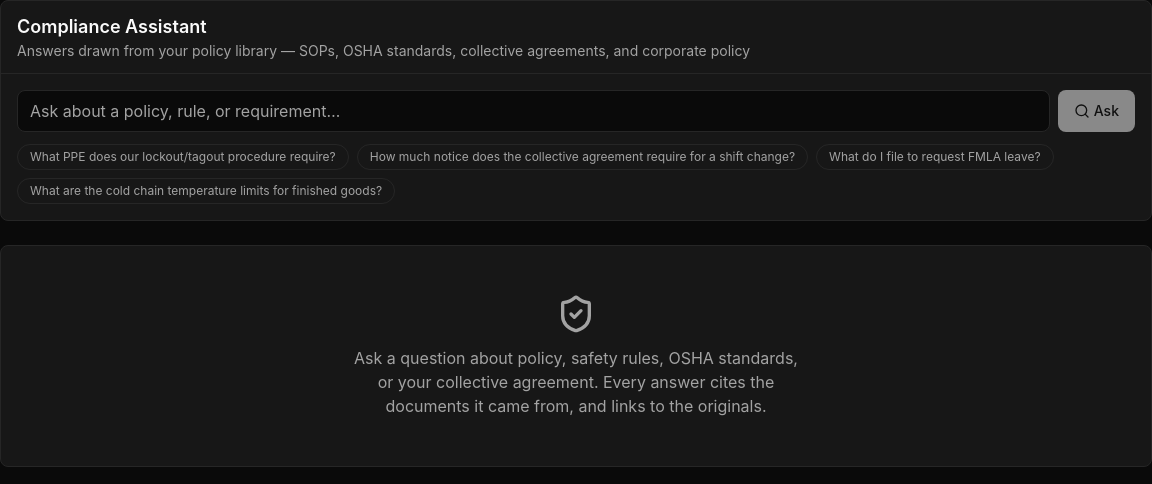
Test: Compliance Assistant › failure is not emptiness › a failed query reads as a failure, not as "no policy covers this"
The image size is (1152, 484).
Type "lockout procedure" into the field named "Compliance question". click: (533, 111)
box: [17, 90, 1050, 132]
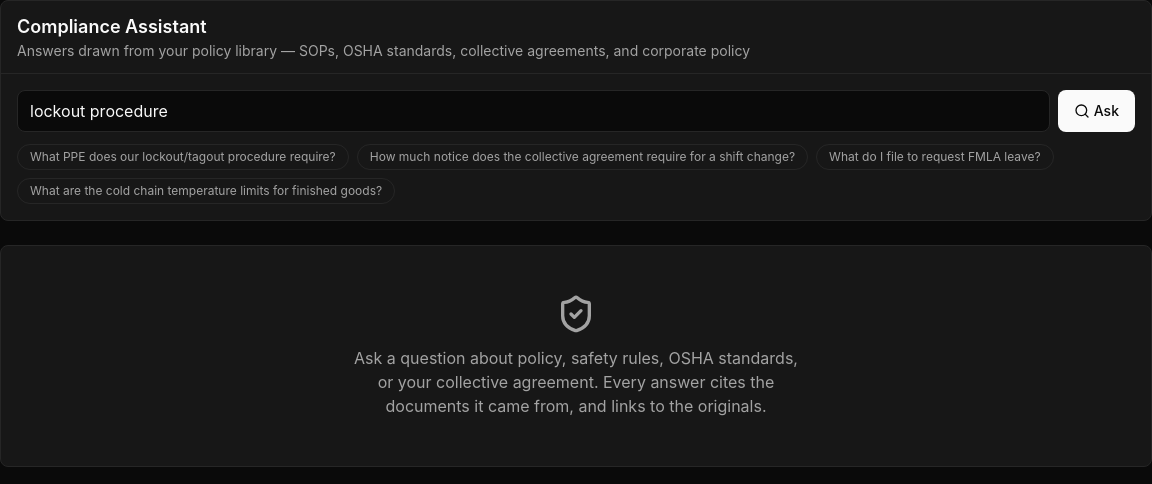
Click the button "Ask". click: (1096, 111)
box: [1058, 90, 1135, 132]
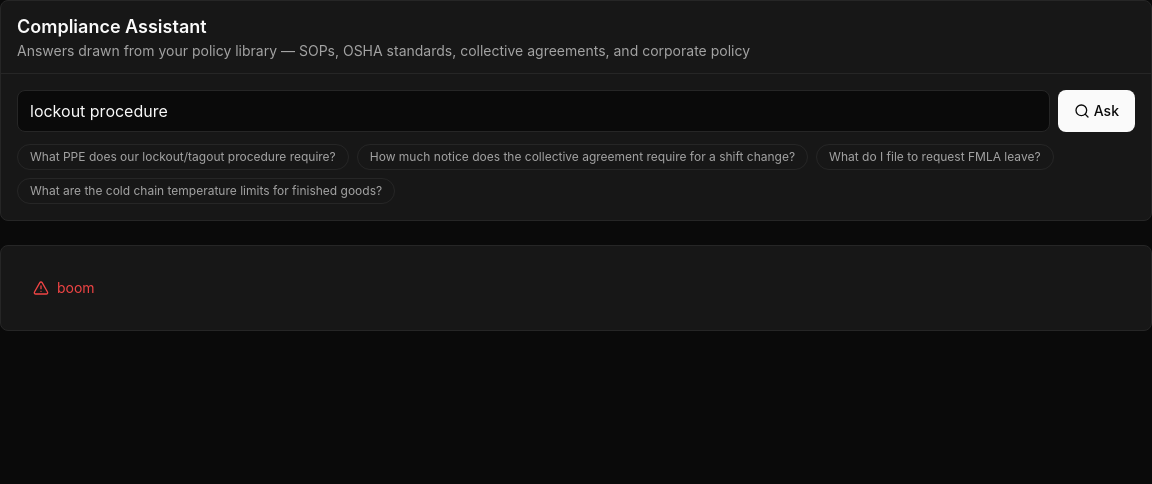
Expected: the message "boom" is shown, [33, 279, 95, 296]
